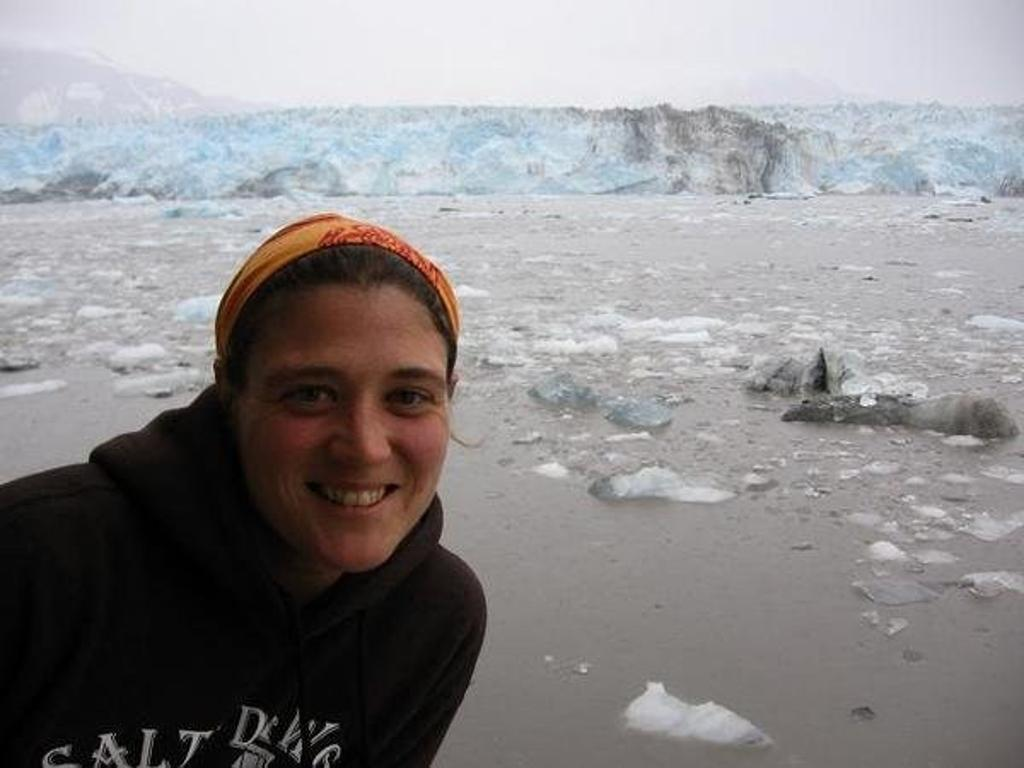face: (246, 252, 452, 562)
